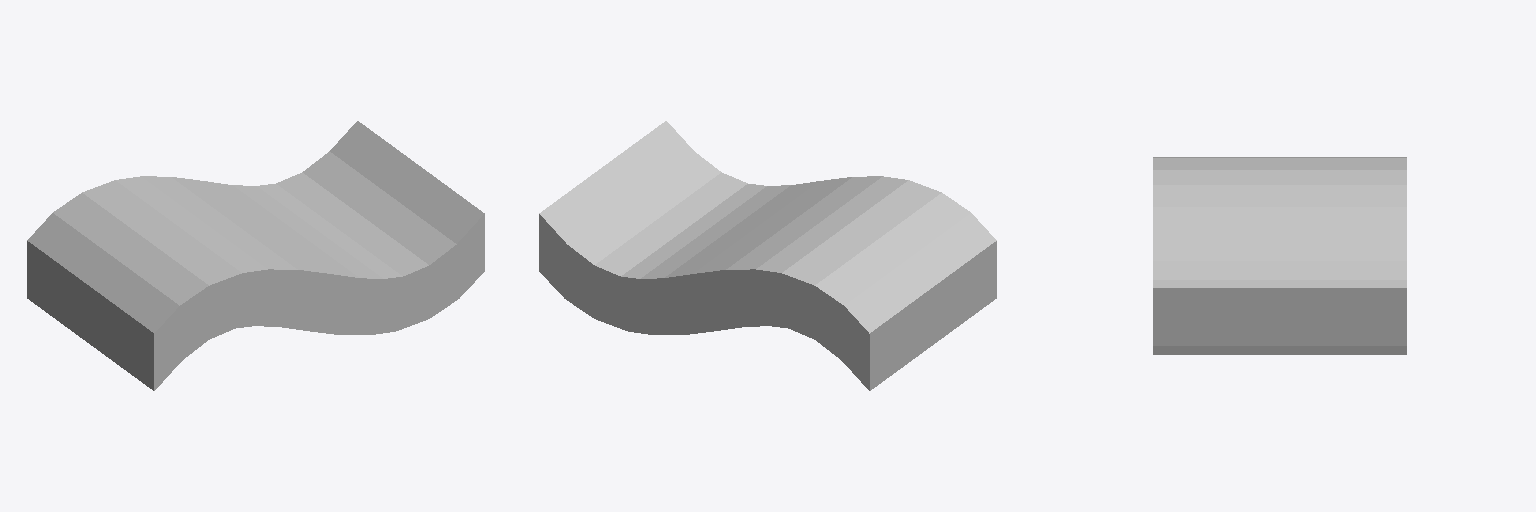
Rendered from tilde_wall.obj.
3 renders of one model, left to right at view 1: azimuth 30°, elevation 25°; view 2: azimuth 150°, elevation 25°; view 3: azimuth 270°, elevation 25°, orthographic.
Parts seen in each view (by area): view 1: obj_0; view 2: obj_0; view 3: obj_0.
Part boxes in pixels (left/top/right/bottom): obj_0: left=27, top=121, right=484, bottom=390; obj_0: left=539, top=121, right=996, bottom=390; obj_0: left=1153, top=157, right=1406, bottom=354.
Size of the model in its own units: 6 by 1.69 by 4.